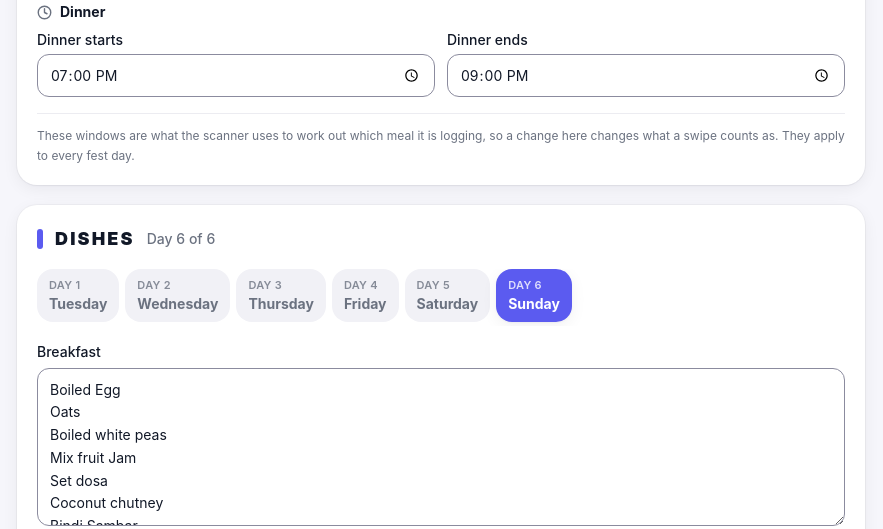
Test case: MessMenuPage › reading back what is stored › picks up a menu left on this device before the route existed
The image size is (883, 529).
(page scrolled)
Click the tab "Day 1 Tuesday".
click(78, 295)  # box [37, 269, 119, 322]
(page scrolled)
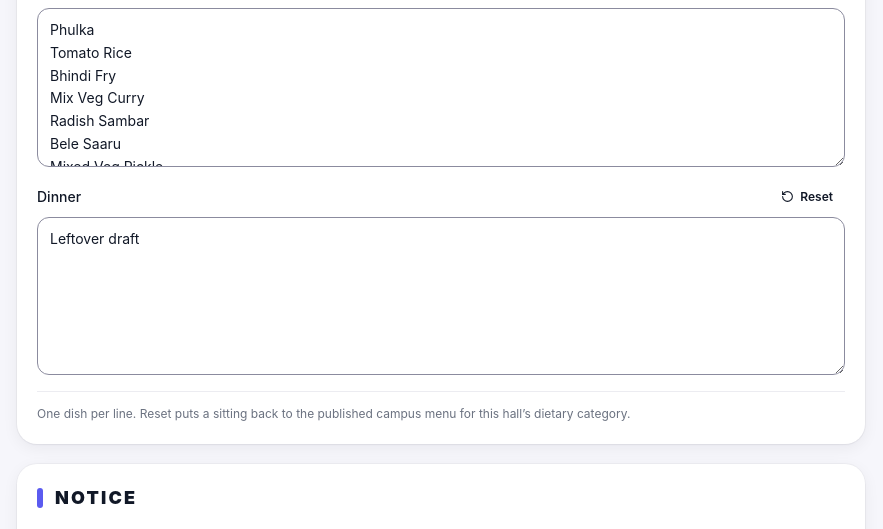
Result: the text box labelled "Dinner" holds "Leftover draft" at [37, 217, 845, 375]
